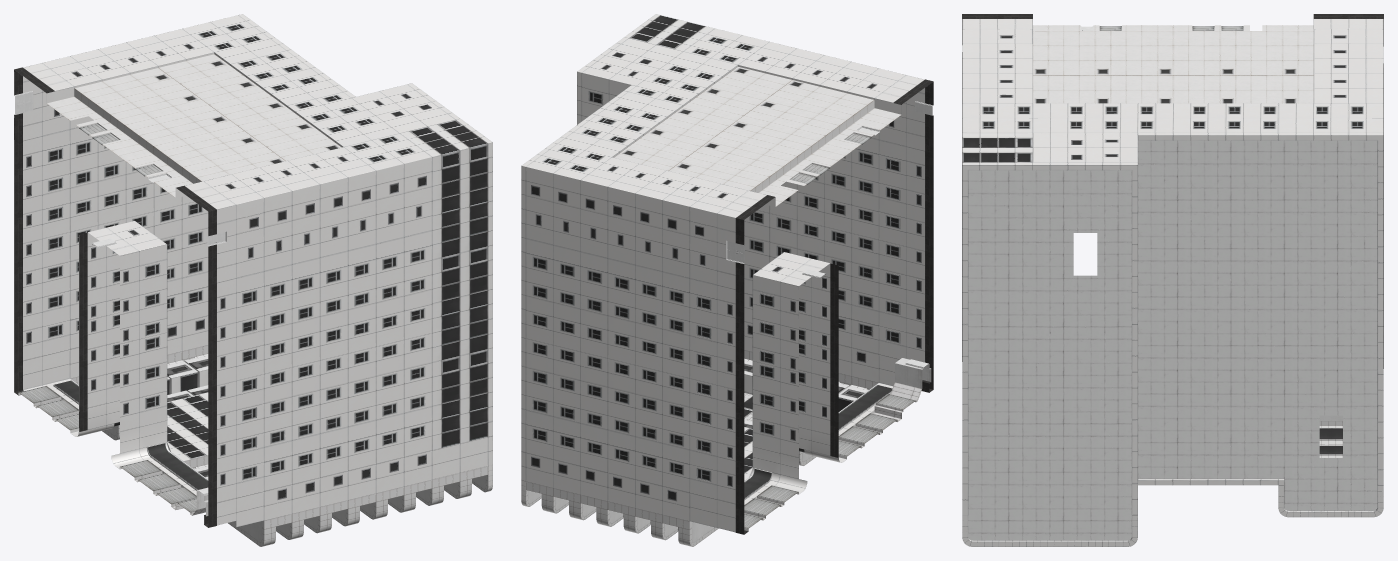
3 renders of one model, left to right at view 1: azimuth 30°, elevation 25°; view 2: azimuth 150°, elevation 25°; view 3: azimuth 270°, elevation 25°, orthographic. The views are drawn at different scales.
Parts seen in each view (by area): view 1: S_R_03_04_F.002, S_R_03_04_S.001, S_R_03_04_F.001, S_R_03_04_S.004, S_R_03_04_S.003, S_R_03_04_F.003, S_R_03_04_S.002; view 2: S_R_03_04_F.002, S_R_03_04_S.001, S_R_03_04_F.001, S_R_03_04_S.004, S_R_03_04_S.003, S_R_03_04_F.003, S_R_03_04_S.002; view 3: S_R_03_04_R.001, S_R_03_04_F.002, S_R_03_04_F.001, S_R_03_04_S.004, S_R_03_04_S.001, S_R_03_04_S.003.
Part boxes in pixels (x1=…): S_R_03_04_F.002: x1=70, y1=14, x2=492, y2=520; S_R_03_04_S.001: x1=18, y1=56, x2=264, y2=527; S_R_03_04_F.001: x1=71, y1=54, x2=488, y2=546; S_R_03_04_S.004: x1=14, y1=67, x2=264, y2=546; S_R_03_04_S.003: x1=19, y1=123, x2=261, y2=542; S_R_03_04_F.003: x1=167, y1=354, x2=488, y2=539; S_R_03_04_S.002: x1=14, y1=91, x2=226, y2=495; S_R_03_04_F.002: x1=521, y1=14, x2=878, y2=530; S_R_03_04_S.001: x1=689, y1=68, x2=924, y2=532; S_R_03_04_F.001: x1=526, y1=66, x2=877, y2=546; S_R_03_04_S.004: x1=689, y1=79, x2=933, y2=546; S_R_03_04_S.003: x1=692, y1=133, x2=931, y2=542; S_R_03_04_F.003: x1=526, y1=358, x2=868, y2=540; S_R_03_04_S.002: x1=726, y1=101, x2=933, y2=368; S_R_03_04_R.001: x1=968, y1=140, x2=1377, y2=540; S_R_03_04_F.002: x1=962, y1=44, x2=1383, y2=546; S_R_03_04_F.001: x1=1033, y1=46, x2=1342, y2=457; S_R_03_04_S.004: x1=962, y1=14, x2=1383, y2=425; S_R_03_04_S.001: x1=962, y1=19, x2=1383, y2=43; S_R_03_04_S.003: x1=1099, y1=26, x2=1342, y2=421.
Size of the model in its own units: 39.04 by 46.14 by 46.11.
